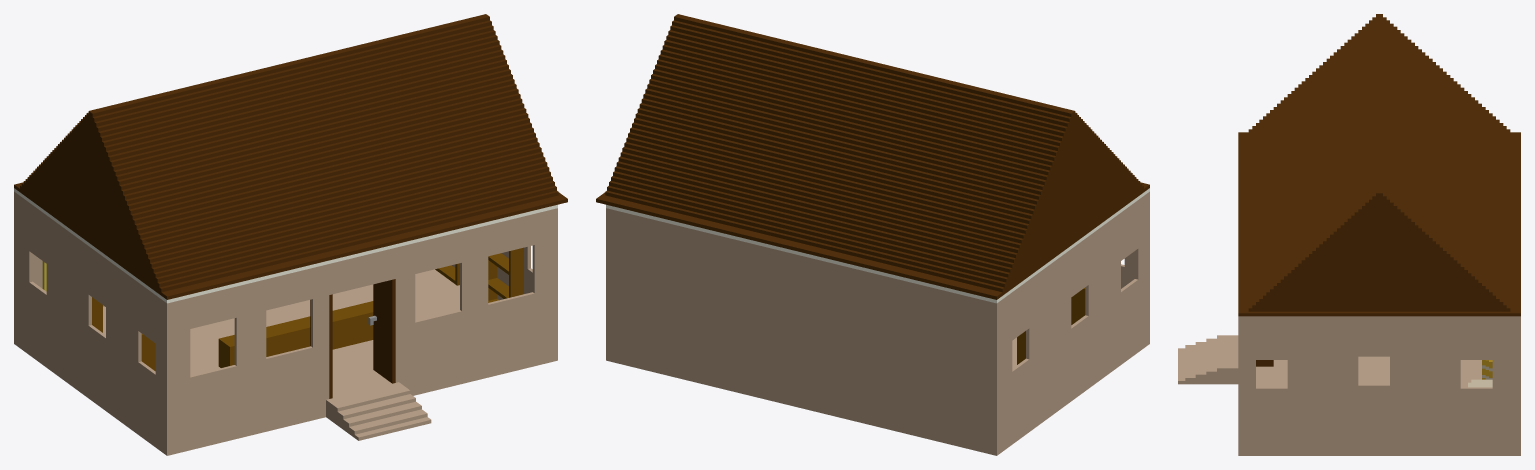
Rendered from casaPedra.obj.
3 renders of one model, left to right at view 1: azimuth 30°, elevation 25°; view 2: azimuth 150°, elevation 25°; view 3: azimuth 270°, elevation 25°, orthographic. The views are drawn at different scales.
Size of the model in its own units: 121 by 83 by 97.
Materials: 1 (1 with a texture image).
